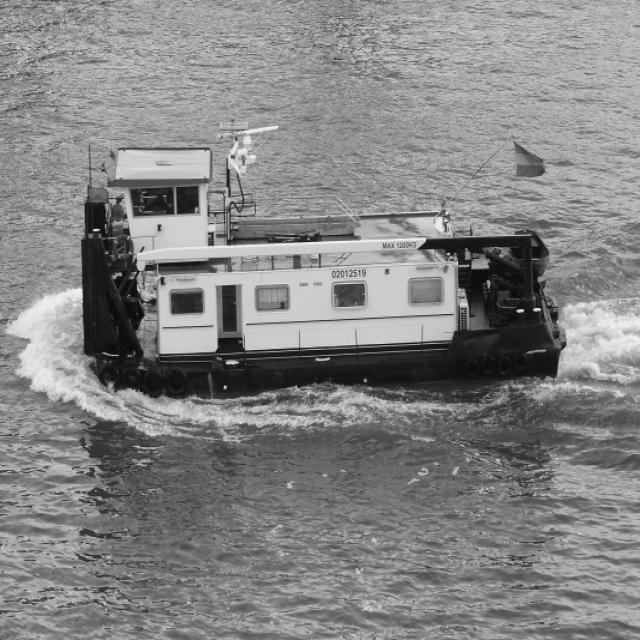tugboat: (71, 113, 575, 409)
